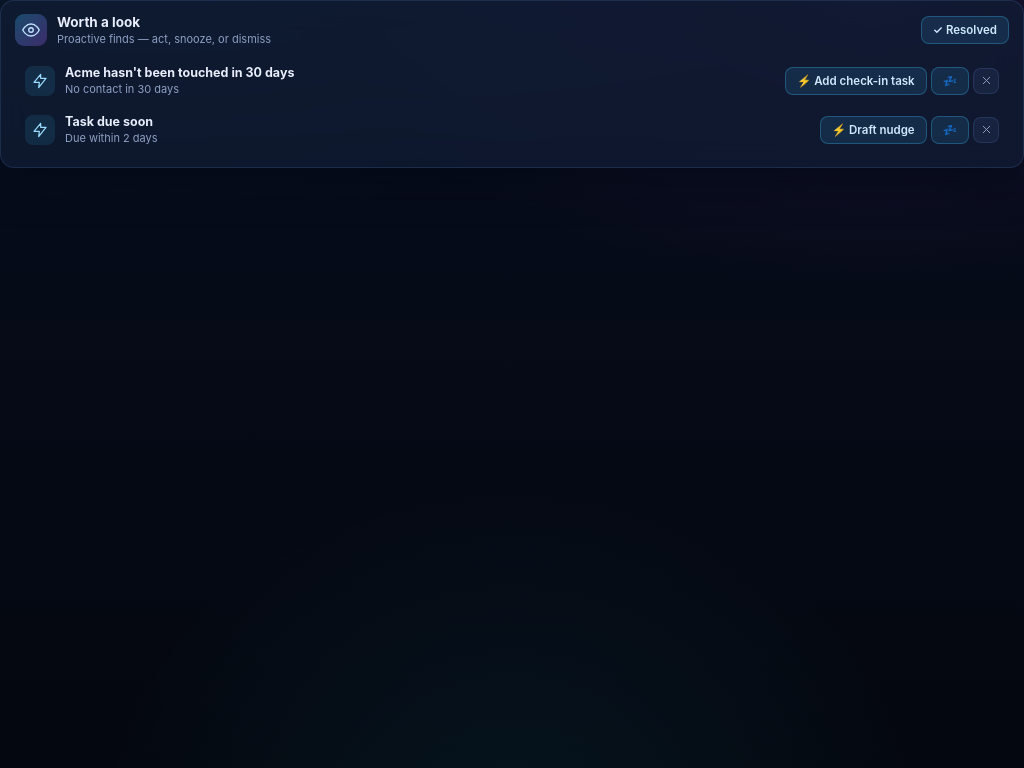
Test: OpportunitiesCard › act shows the draft, snooze removes the row
Expected: the text "Task due soon" is shown, [65, 114, 158, 129]
Click the button titled "Draft nudge". click: (873, 130)
box: [820, 116, 927, 144]
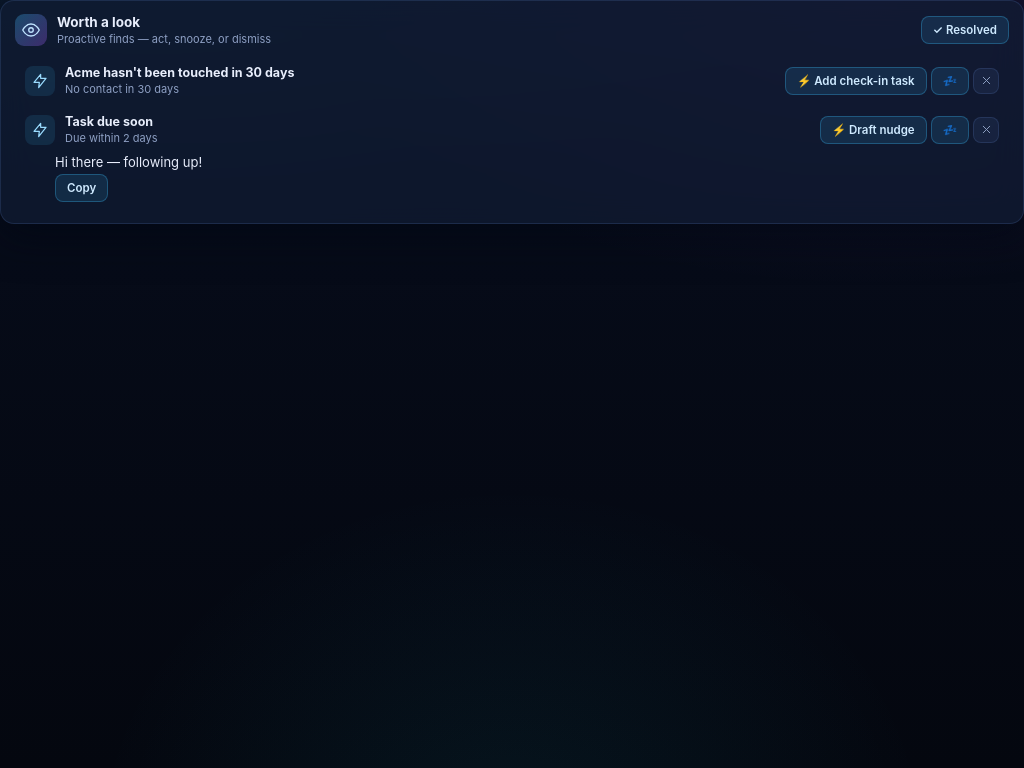
Expected: the text "Hi there — following up!" is shown, [55, 154, 202, 170]
Expected: the button "Copy" is shown, [55, 174, 108, 202]
Click the button titled "Snooze 24h" in the row of "Acme hasn't been touched in 30 days". click: (950, 80)
box: [931, 66, 969, 94]
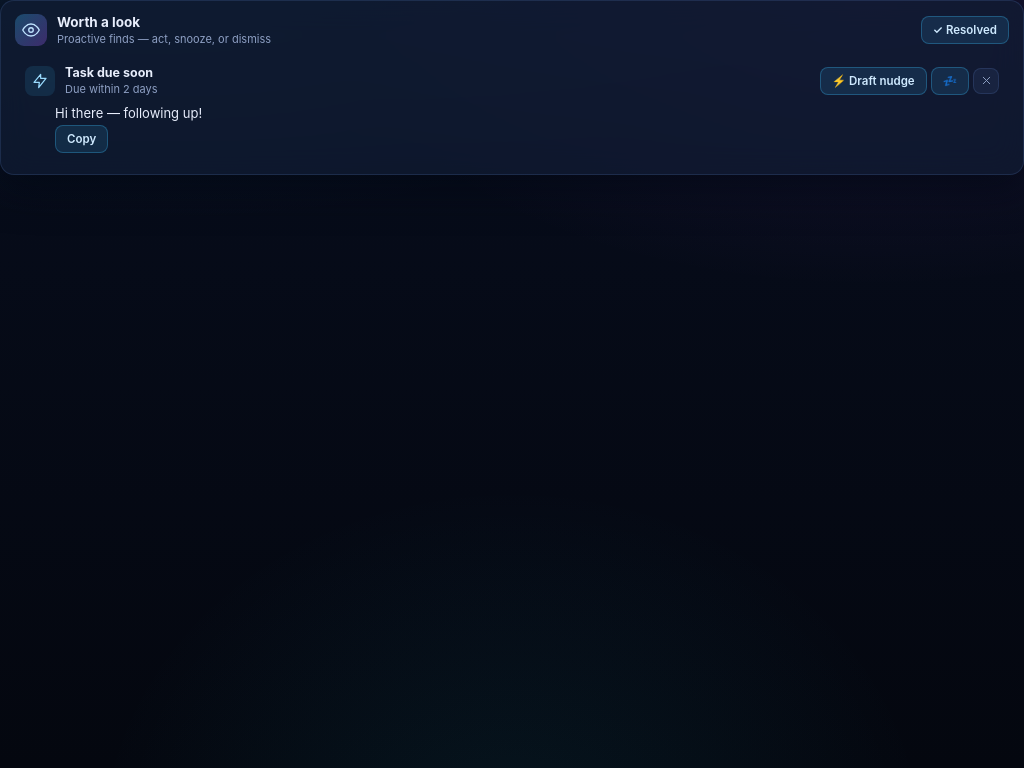
Expected: the text "Acme hasn't been touched in 30 days" is gone
